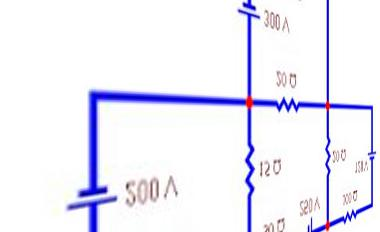resistor: (230, 135, 259, 201), (318, 131, 333, 173), (334, 204, 362, 223)
